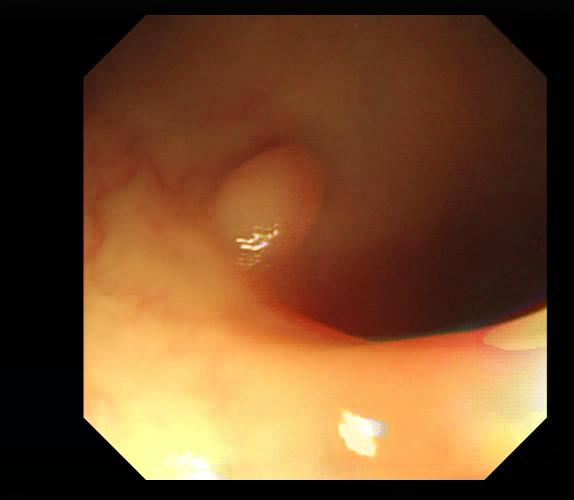polyp: (208, 141, 327, 266)
